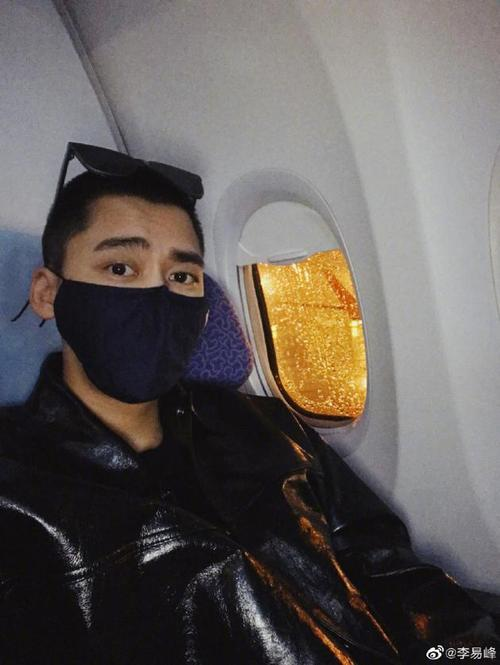yes_mask: (25, 140, 207, 411)
